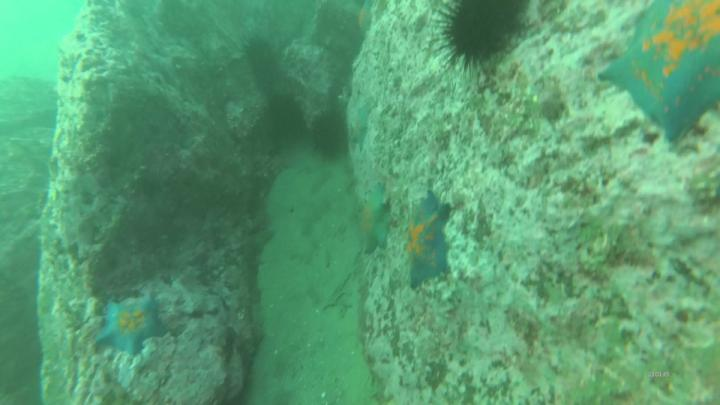echinus: (450, 3, 519, 61), (315, 114, 348, 157), (270, 99, 302, 139), (247, 42, 278, 78)
starfish: (600, 2, 720, 142), (407, 191, 451, 289), (96, 302, 167, 355), (360, 189, 392, 254), (359, 2, 374, 35)
